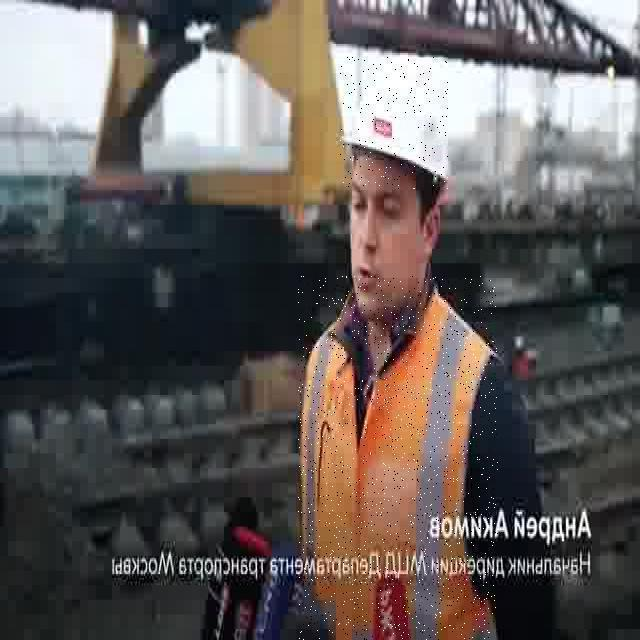helmet: (340, 58, 448, 190)
safety_vest: (298, 276, 498, 640)
